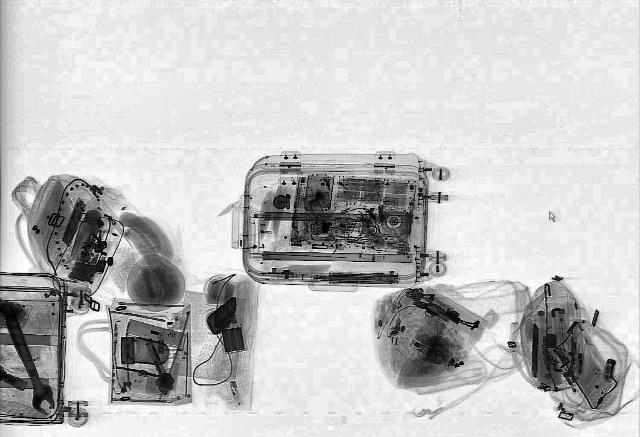Wrench: (0, 320, 60, 414)
